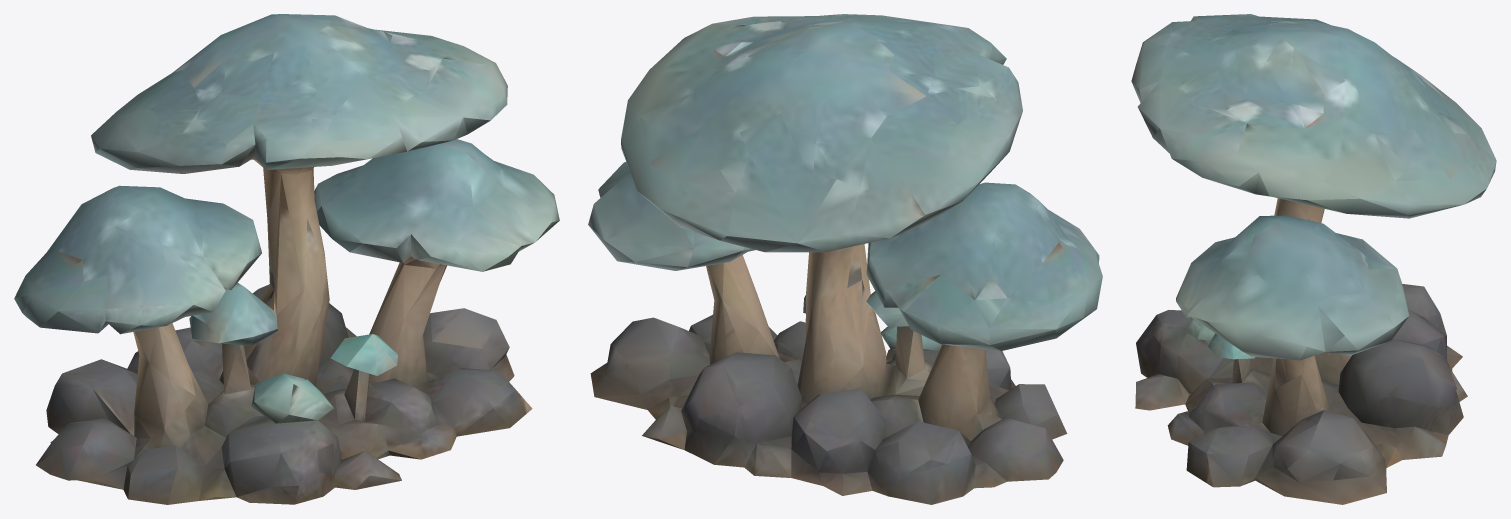
Rendered from setas_azules.glb.
The picture shows the model from 3 angles, left to right: view 1: azimuth 30°, elevation 25°; view 2: azimuth 150°, elevation 25°; view 3: azimuth 270°, elevation 25°; orthographic projection. The views are drawn at different scales.
Visible parts, largest first — view 1: setas_azules_malla; view 2: setas_azules_malla; view 3: setas_azules_malla.
Boxes of the visible parts, x1,y1,x2,y2 form: setas_azules_malla: [14, 14, 559, 504]; setas_azules_malla: [588, 14, 1102, 504]; setas_azules_malla: [1131, 14, 1496, 504].
Size of the model in its own units: 0.2673 by 0.1977 by 0.1774.
Materials: 1 (1 with a texture image).
